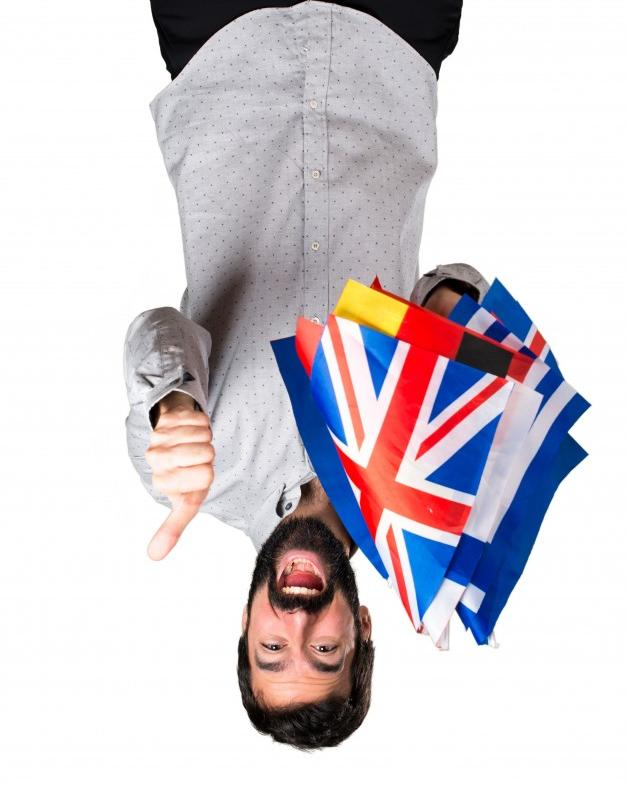thumbsdown: (147, 411, 215, 561)
